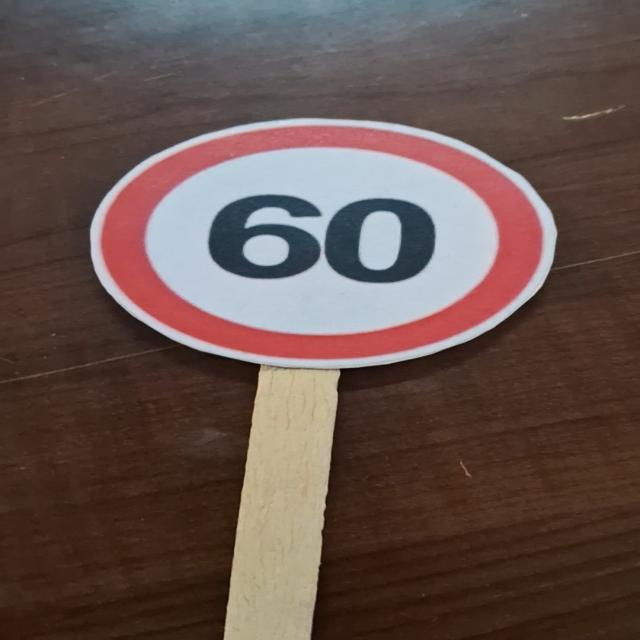Speed60: (78, 112, 575, 372)
